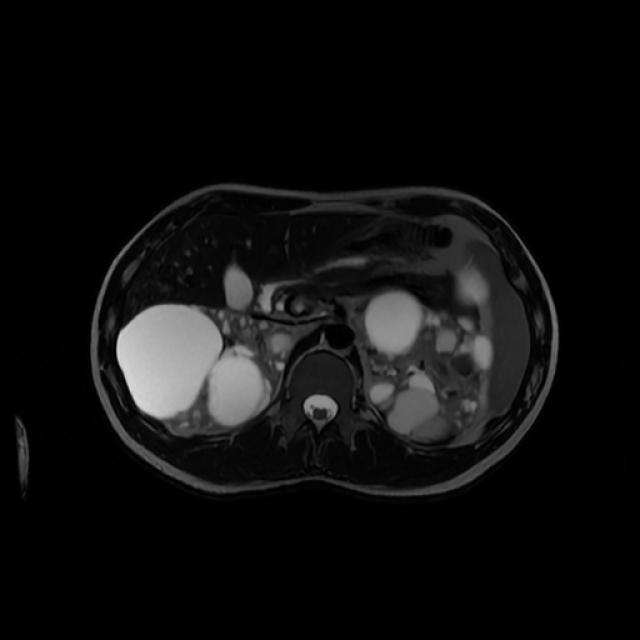sag: (116, 304, 302, 434)
sol: (356, 290, 496, 445)
